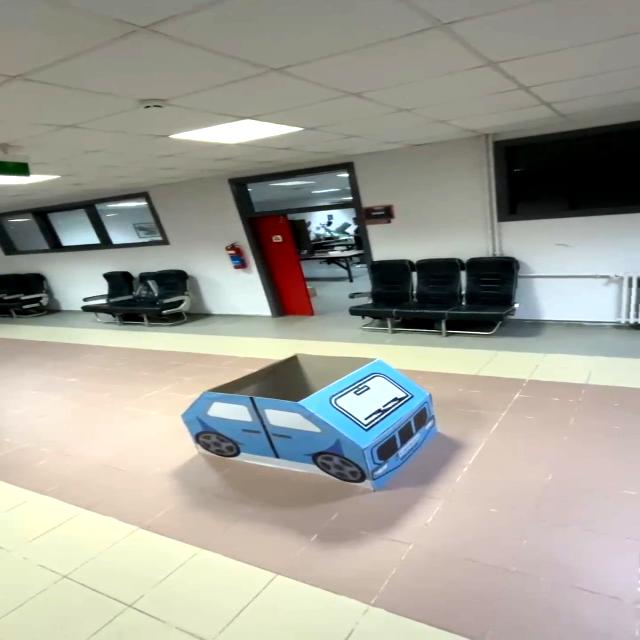blue_car: (139, 340, 477, 506)
